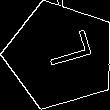L_W: (30, 33, 91, 78)
